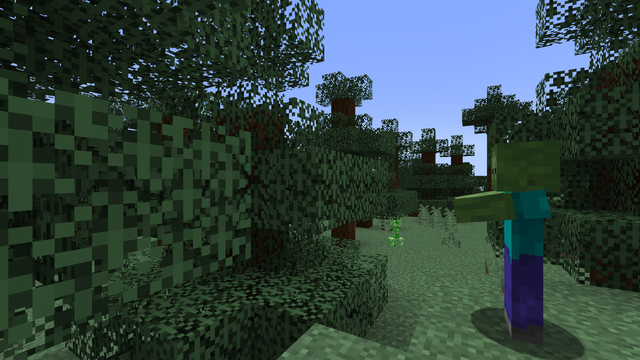creepers: (388, 220, 401, 245)
zombies: (487, 144, 568, 355)
